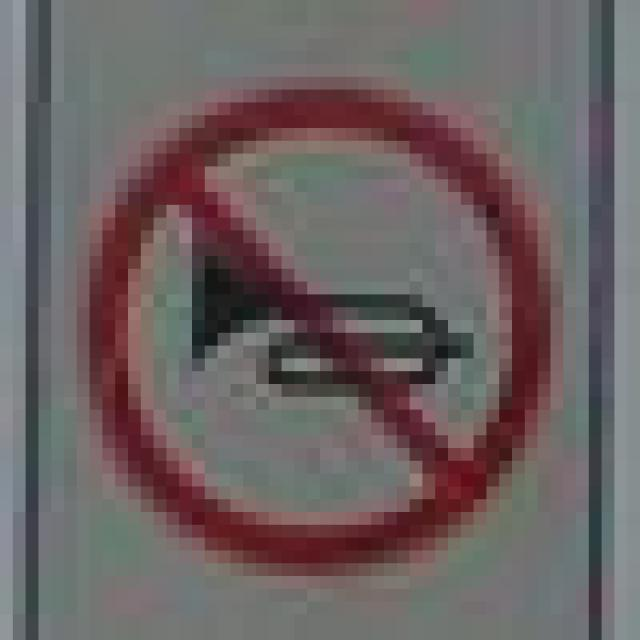HORN_PROHIBITED: (76, 77, 538, 563)
